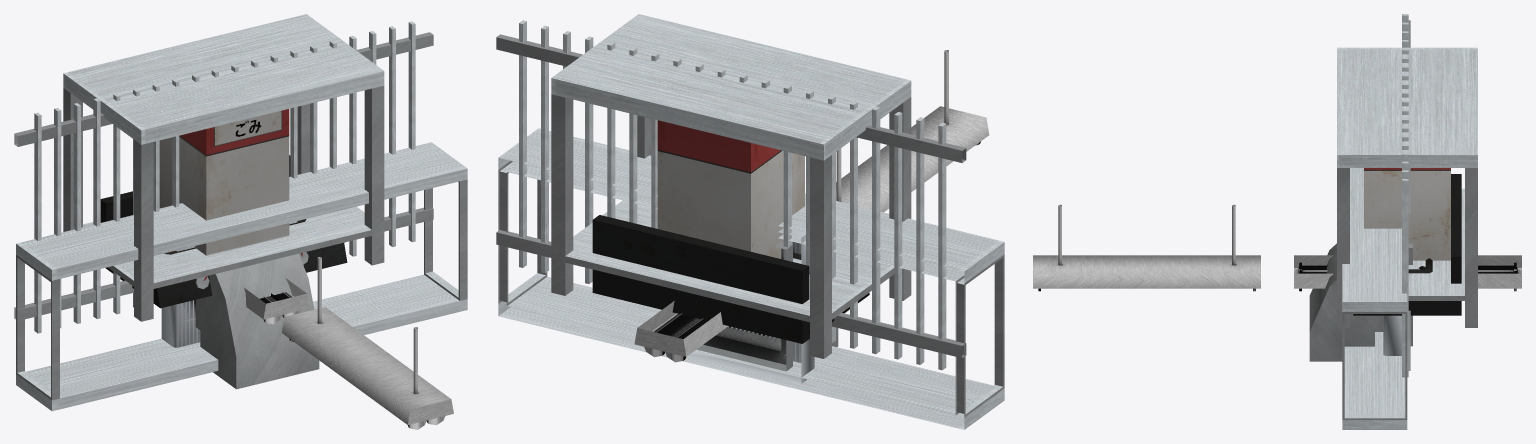
Rendered from prop_sch_canteen_furniture_2.fbx.
3 renders of one model, left to right at view 1: azimuth 30°, elevation 25°; view 2: azimuth 150°, elevation 25°; view 3: azimuth 270°, elevation 25°, orthographic. The views are drawn at different scales.
Parts seen in each view (by area): view 1: prop_sch_furniture_cn2_table, prop_sch_furniture_cn2_shelfs, prop_sch_furniture_cn2_metalBar, prop_sch_furniture_cn2_trashcan, prop_sch_furniture_cn2_vent, prop_sch_furniture_cn2_ceilingLamp, prop_sch_furniture_cn2_stove, prop_sch_furniture_cn2_exhaustfan, prop_sch_furniture_cn2_ceilingLampB; view 2: prop_sch_furniture_cn2_table, prop_sch_furniture_cn2_shelfs, prop_sch_furniture_cn2_metalBar, prop_sch_furniture_cn2_trashcan, prop_sch_furniture_cn2_stove, prop_sch_furniture_cn2_ceilingLamp, prop_sch_furniture_cn2_ceilingLampB, prop_sch_furniture_cn2_vent, prop_sch_furniture_cn2_exhaustfan; view 3: prop_sch_furniture_cn2_table, prop_sch_furniture_cn2_shelfs, prop_sch_furniture_cn2_ceilingLamp, prop_sch_furniture_cn2_trashcan, prop_sch_furniture_cn2_vent, prop_sch_furniture_cn2_ceilingLampB, prop_sch_furniture_cn2_metalBar, prop_sch_furniture_cn2_stove, prop_sch_furniture_cn2_exhaustfan.
Part boxes in pixels (x1,y1,x2,y2): prop_sch_furniture_cn2_table: (63, 14, 384, 321); prop_sch_furniture_cn2_shelfs: (16, 142, 467, 411); prop_sch_furniture_cn2_metalBar: (14, 21, 433, 333); prop_sch_furniture_cn2_trashcan: (159, 109, 289, 255); prop_sch_furniture_cn2_vent: (195, 235, 319, 389); prop_sch_furniture_cn2_ceilingLamp: (281, 257, 453, 429); prop_sch_furniture_cn2_stove: (100, 155, 347, 308); prop_sch_furniture_cn2_exhaustfan: (161, 221, 297, 347); prop_sch_furniture_cn2_ceilingLampB: (244, 278, 309, 324); prop_sch_furniture_cn2_table: (551, 14, 911, 358); prop_sch_furniture_cn2_shelfs: (498, 128, 1004, 429); prop_sch_furniture_cn2_metalBar: (496, 20, 966, 370); prop_sch_furniture_cn2_trashcan: (657, 120, 804, 258); prop_sch_furniture_cn2_stove: (592, 215, 869, 343); prop_sch_furniture_cn2_ceilingLamp: (836, 50, 989, 212); prop_sch_furniture_cn2_ceilingLampB: (634, 301, 727, 362); prop_sch_furniture_cn2_vent: (697, 242, 838, 371); prop_sch_furniture_cn2_exhaustfan: (661, 228, 814, 383); prop_sch_furniture_cn2_table: (1337, 47, 1477, 327); prop_sch_furniture_cn2_shelfs: (1342, 168, 1407, 429); prop_sch_furniture_cn2_ceilingLamp: (1033, 204, 1260, 291); prop_sch_furniture_cn2_trashcan: (1364, 168, 1450, 260); prop_sch_furniture_cn2_vent: (1309, 243, 1412, 361); prop_sch_furniture_cn2_ceilingLampB: (1294, 255, 1521, 291); prop_sch_furniture_cn2_metalBar: (1402, 14, 1410, 377); prop_sch_furniture_cn2_stove: (1353, 174, 1461, 315); prop_sch_furniture_cn2_exhaustfan: (1383, 315, 1401, 355).
Bounding box in the file's own units: 200 × 125 × 225.
